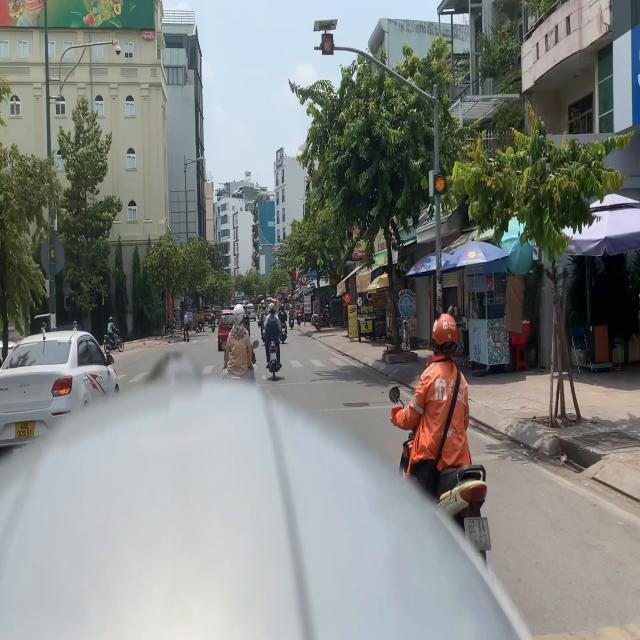Cam con lai: (281, 282, 285, 290)
Cam do: (282, 291, 286, 299)
Cam re phai: (301, 273, 307, 285)
